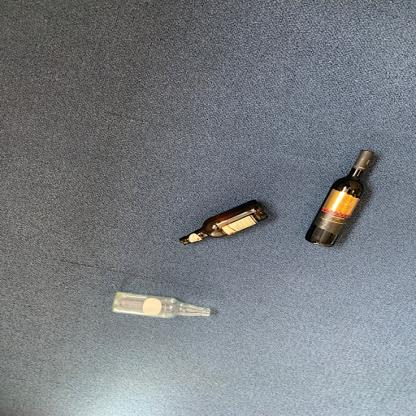trash: (302, 148, 378, 249), (175, 200, 269, 249), (108, 292, 215, 322)
